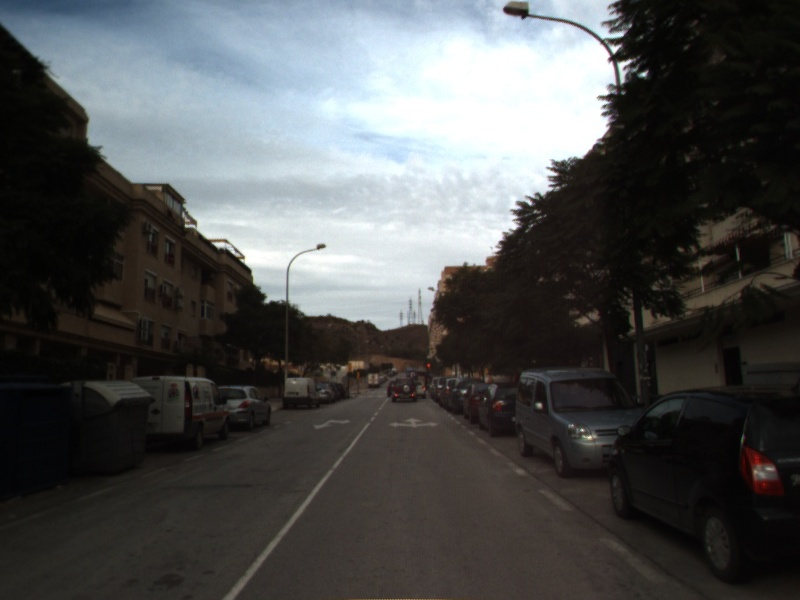STRAIGHT_LEFT_RIGHT: (387, 415, 441, 430)
